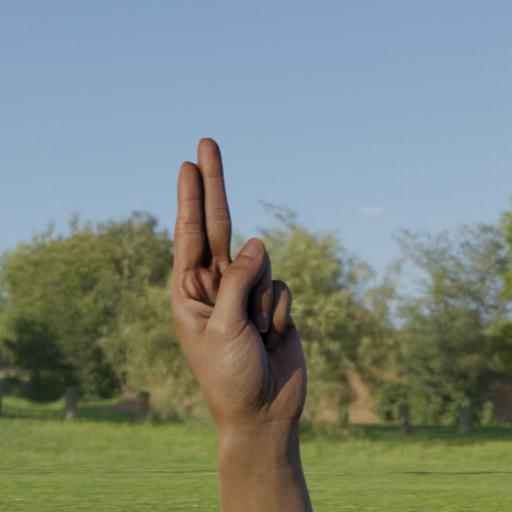U: (144, 78, 487, 512)
